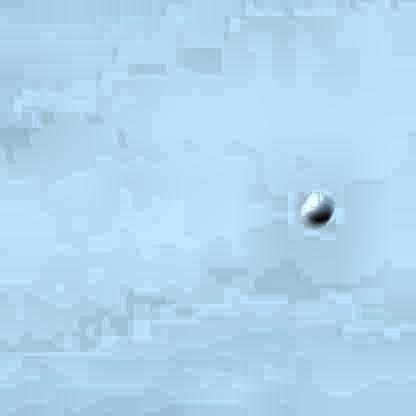golfball: (298, 188, 329, 221)
